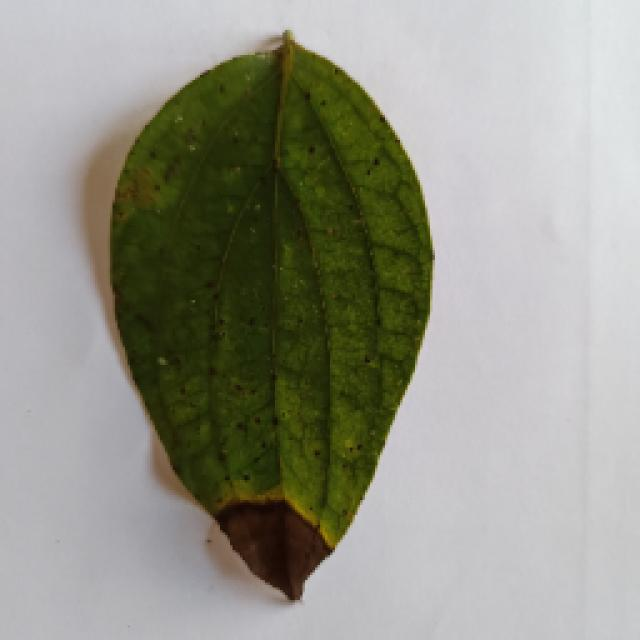footrot: (105, 35, 433, 593)
